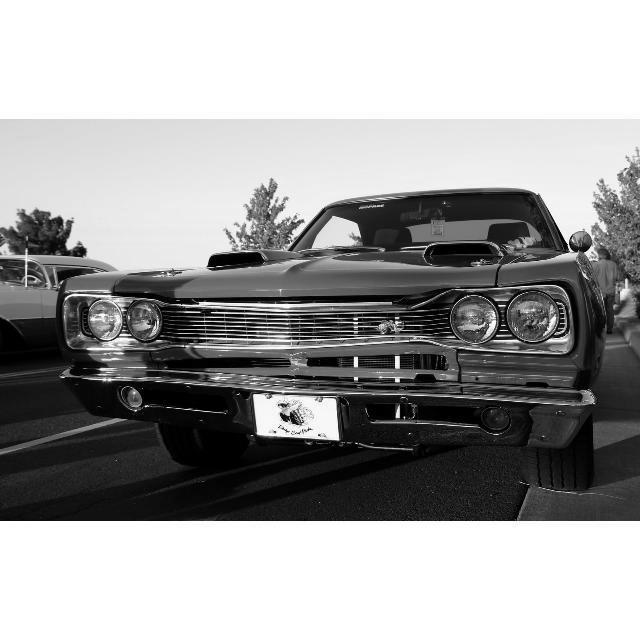front-bumper-dent: (261, 356, 589, 460)
